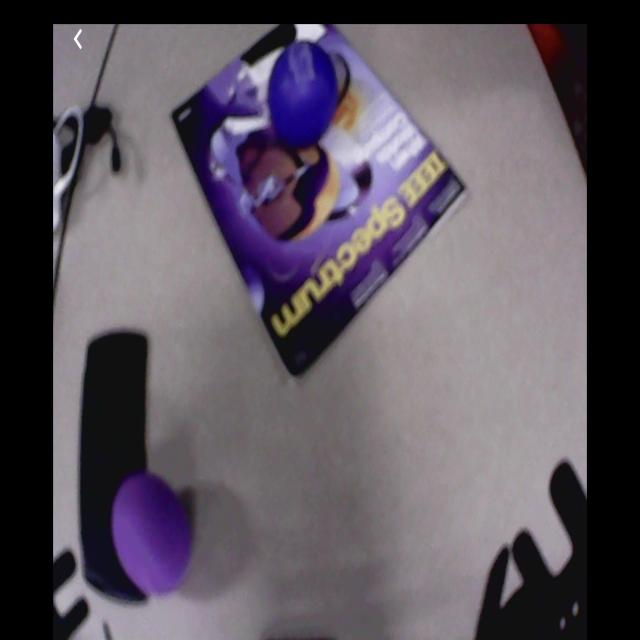ball: (112, 472, 192, 596), (270, 44, 337, 143)
